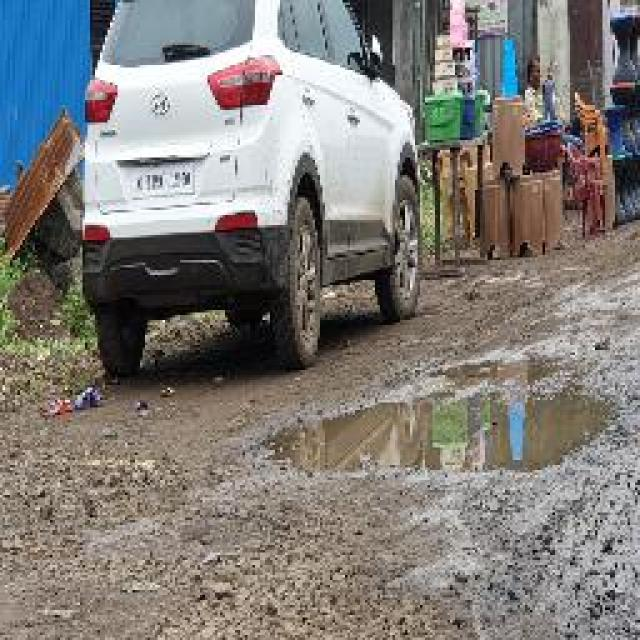stagnation: (197, 326, 618, 495)
